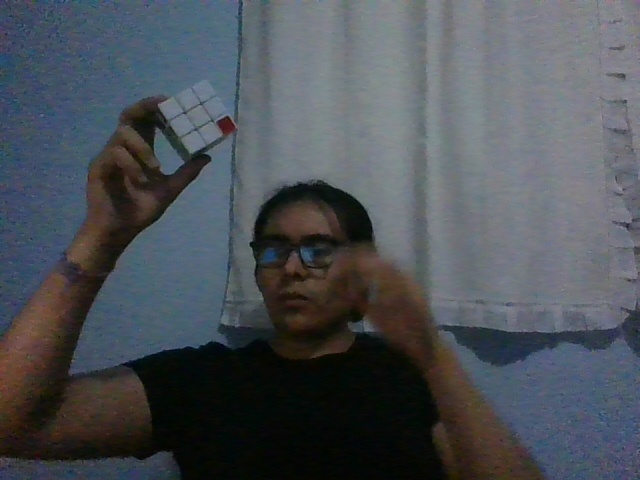rubik: (154, 79, 238, 163)
